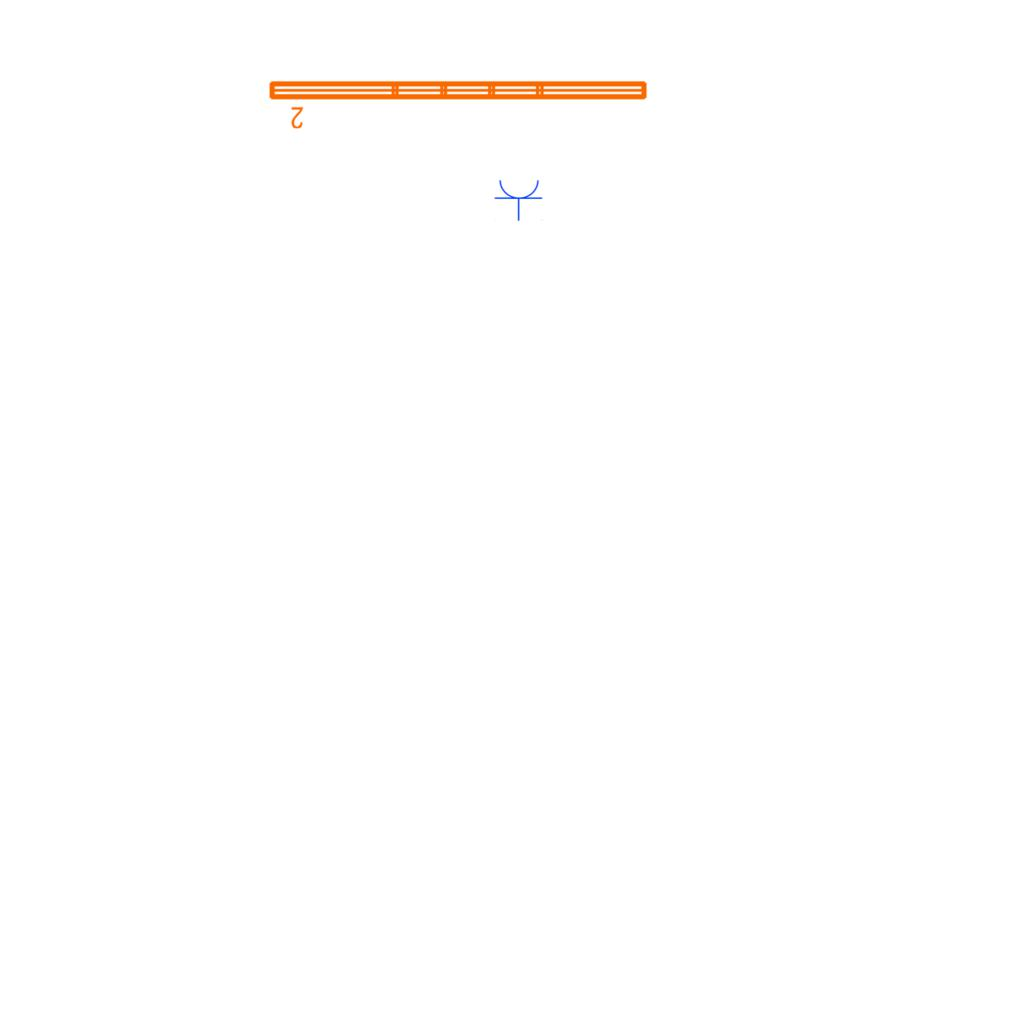Ambulanz_Pendelleuchte_LED: (265, 75, 652, 131)
Schukosteckdose_einfach: (494, 178, 544, 221)
